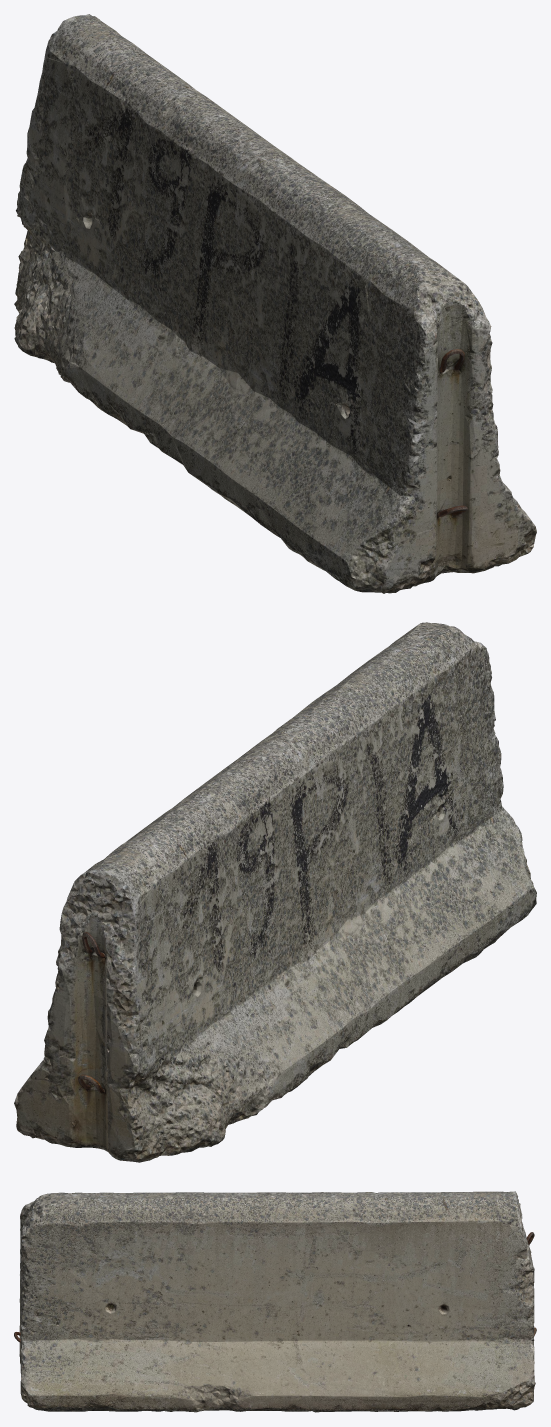
File: 1TMCXKTP3PCW5BDH9EYHV8DJX.obj
3 renders of one model, top to bottom at view 1: azimuth 30°, elevation 25°; view 2: azimuth 150°, elevation 25°; view 3: azimuth 270°, elevation 25°, orthographic. The views are drawn at different scales.
Visible parts, largest first — view 1: Object_000-0-0, Object_000-1-0; view 2: Object_000-0-0, Object_000-1-0; view 3: Object_000-0-0, Object_000-1-0.
Boxes of the visible parts, left/top/right/bottom form: Object_000-0-0: left=14, top=14, right=536, bottom=593; Object_000-1-0: left=17, top=18, right=533, bottom=590; Object_000-0-0: left=14, top=622, right=536, bottom=1162; Object_000-1-0: left=16, top=626, right=536, bottom=1159; Object_000-0-0: left=14, top=1191, right=536, bottom=1412; Object_000-1-0: left=14, top=1193, right=534, bottom=1412.
Bounding box in the file's own units: 0.6675 × 1.01 × 2.5.
Materials: 2 (2 with a texture image).
